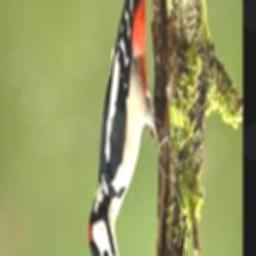Woodpecker: (89, 0, 170, 256)
